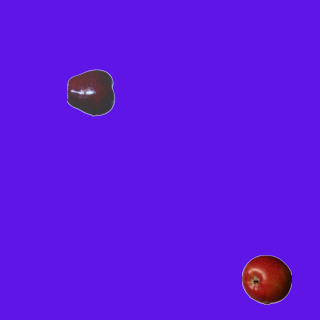Apple Braeburn: (241, 254, 291, 304)
Apple Red Delicious: (66, 67, 116, 117)
